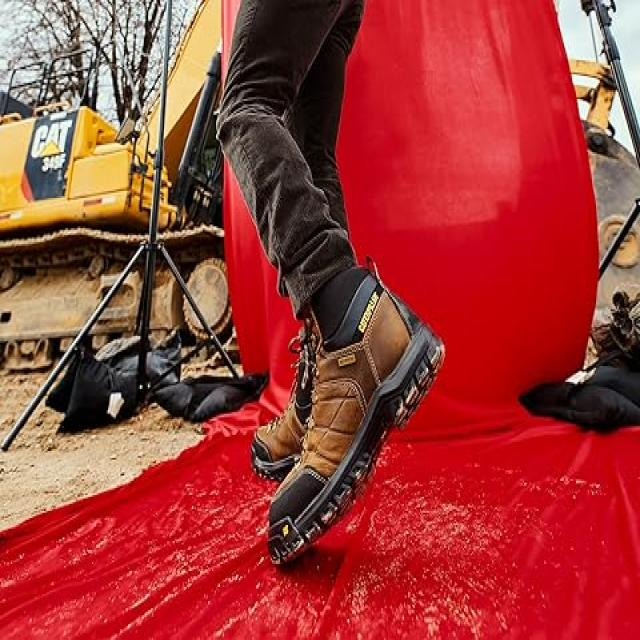Boots: (247, 263, 448, 573)
